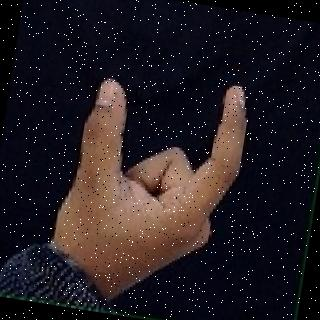U: (50, 49, 264, 294)
